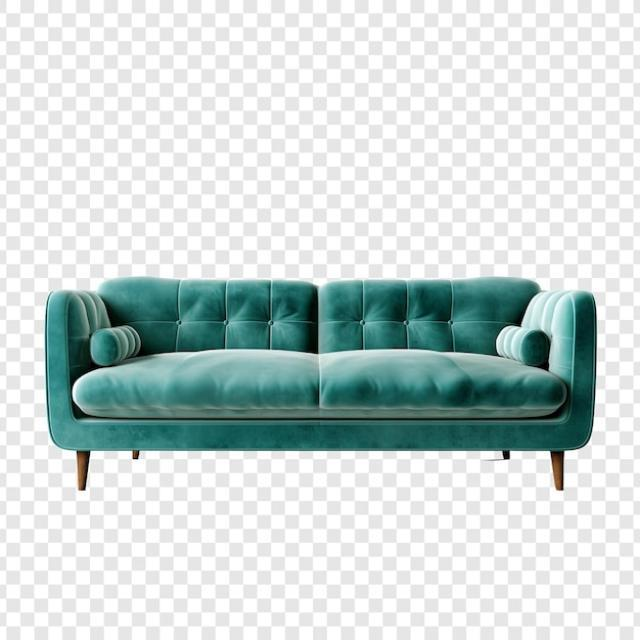sofa: (44, 274, 597, 492)
